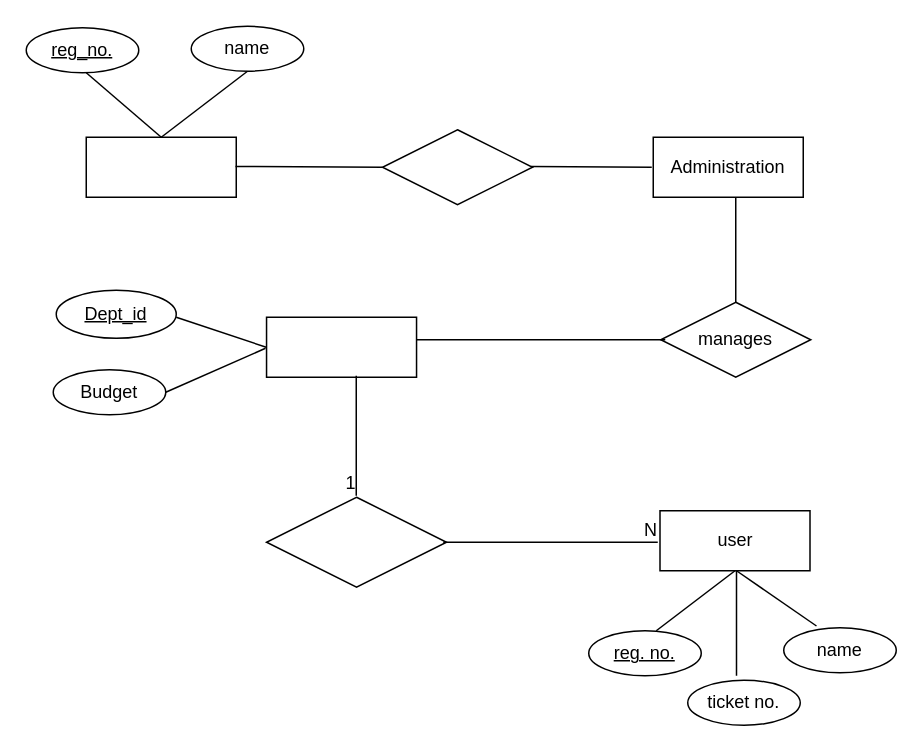
Image size: 923x752. Some labels were removed from this diagram. The shapes that lost their labels are listed below. From the top down, each one's centre as x and y in pixels, then its label:
the point at 160,166: Airline
the point at 456,166: can access
the point at 341,346: Ticket Reservation Dept.
the point at 356,541: registers
